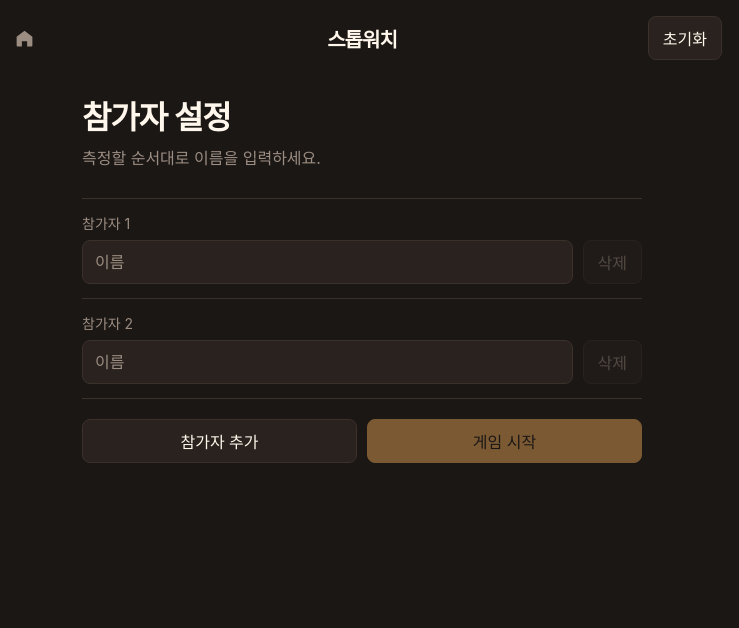
StopwatchPage › 참가자 두 명을 추가하고 첫 측정을 시작한다
Type "짱구" into the field labelled "참가자 1".
click(327, 262); type("짱구")  # box [82,240,572,284]
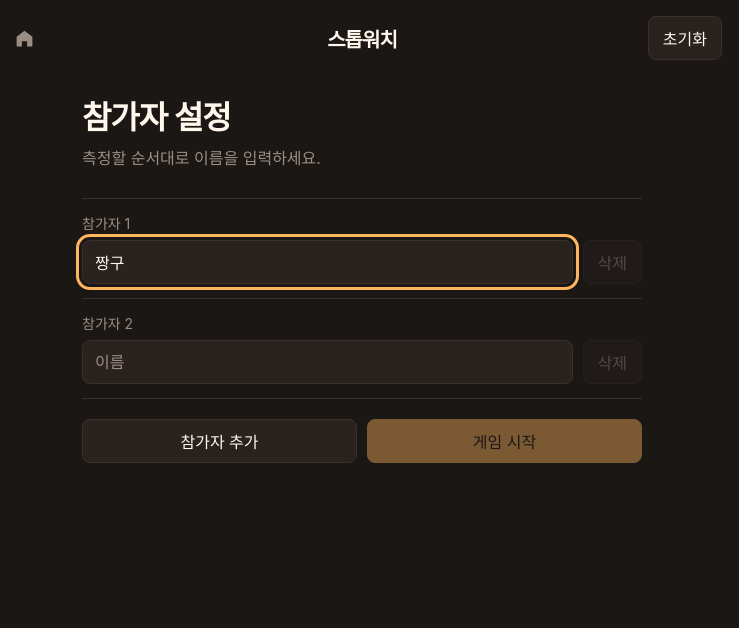
Type "철수" into the field labelled "참가자 2".
click(327, 362); type("철수")  # box [82,340,572,384]
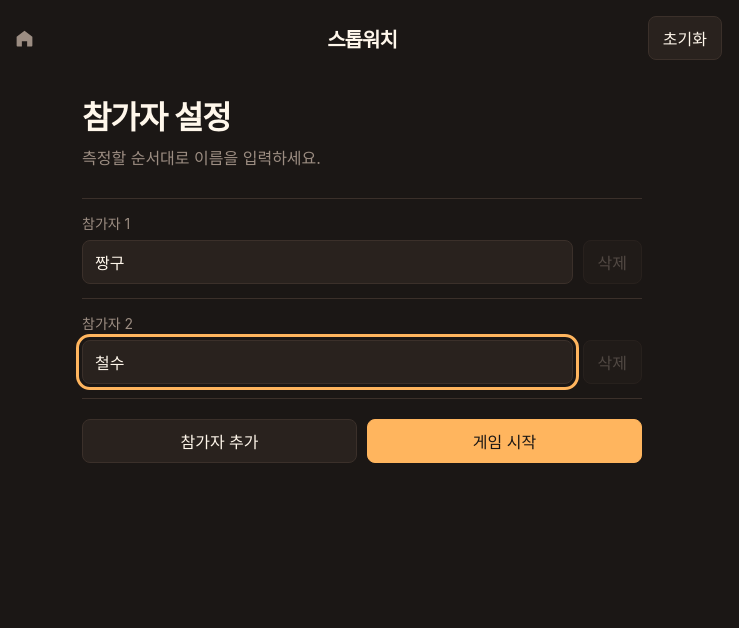
Click the button "게임 시작".
click(504, 441)  # box [367,419,642,463]
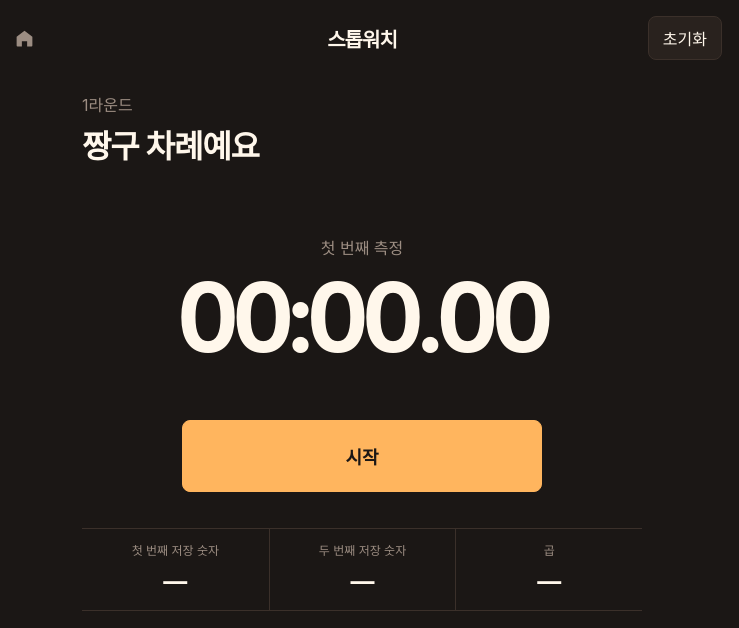
Expected: the button "시작" is shown, [182,420,542,492]
Result: the heading "짱구 차례예요" is shown at [82,127,259,166]
Result: the text "첫 번째 측정" is shown at [321,238,403,258]
